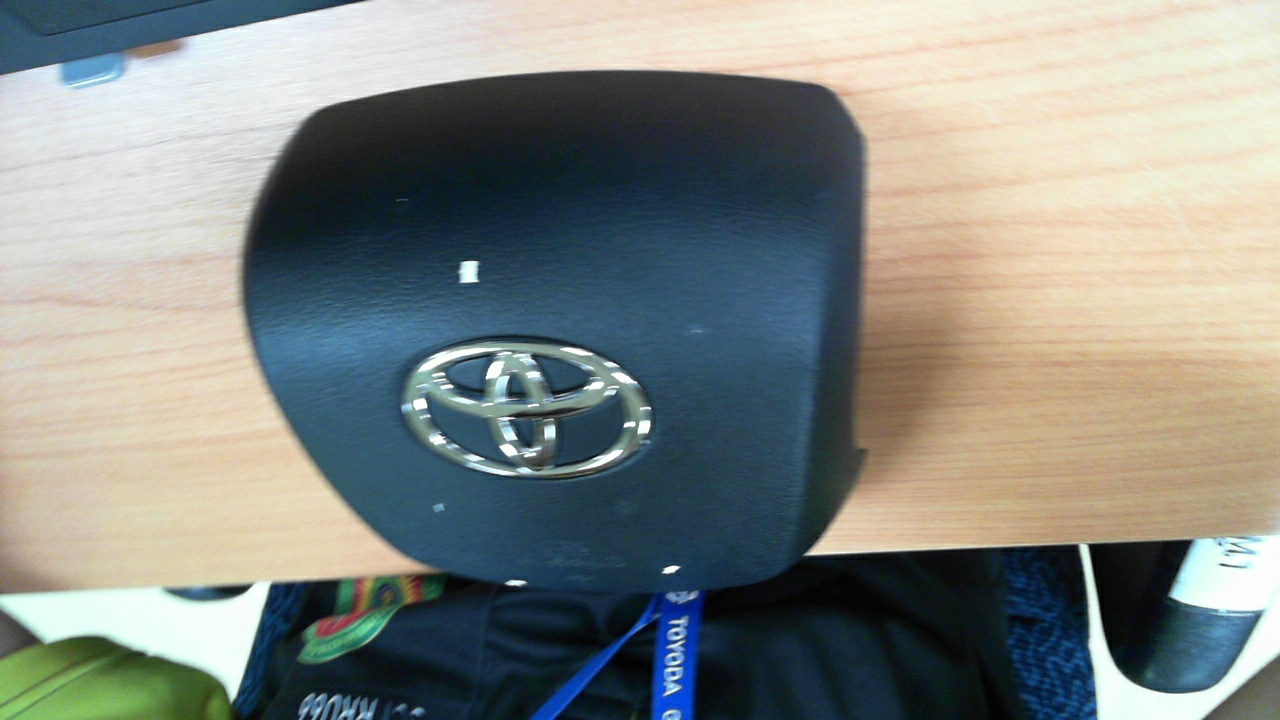Airbag: (242, 70, 864, 593)
Mark: (458, 260, 481, 283), (662, 565, 680, 574), (432, 503, 447, 513), (504, 580, 528, 586), (396, 198, 409, 201), (692, 330, 702, 333)
